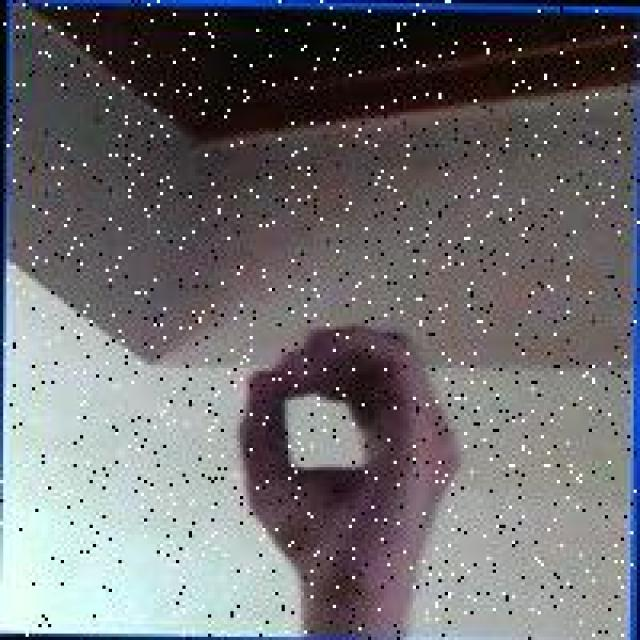O: (229, 315, 472, 568)
